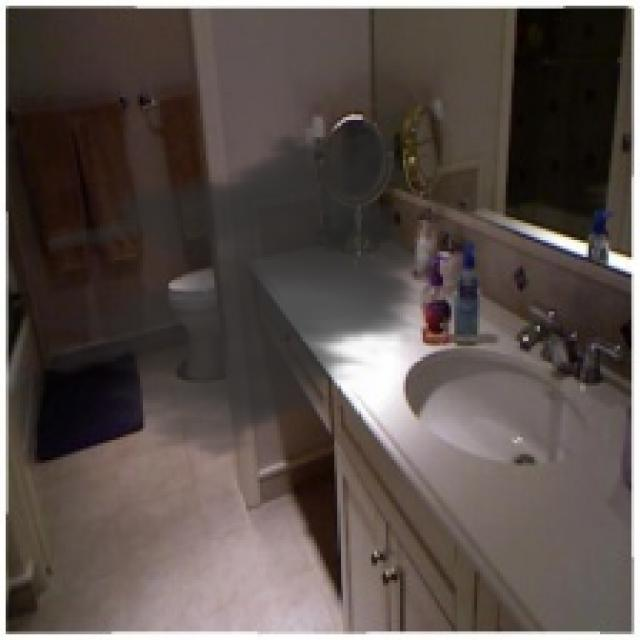smoke: (49, 109, 440, 468)
